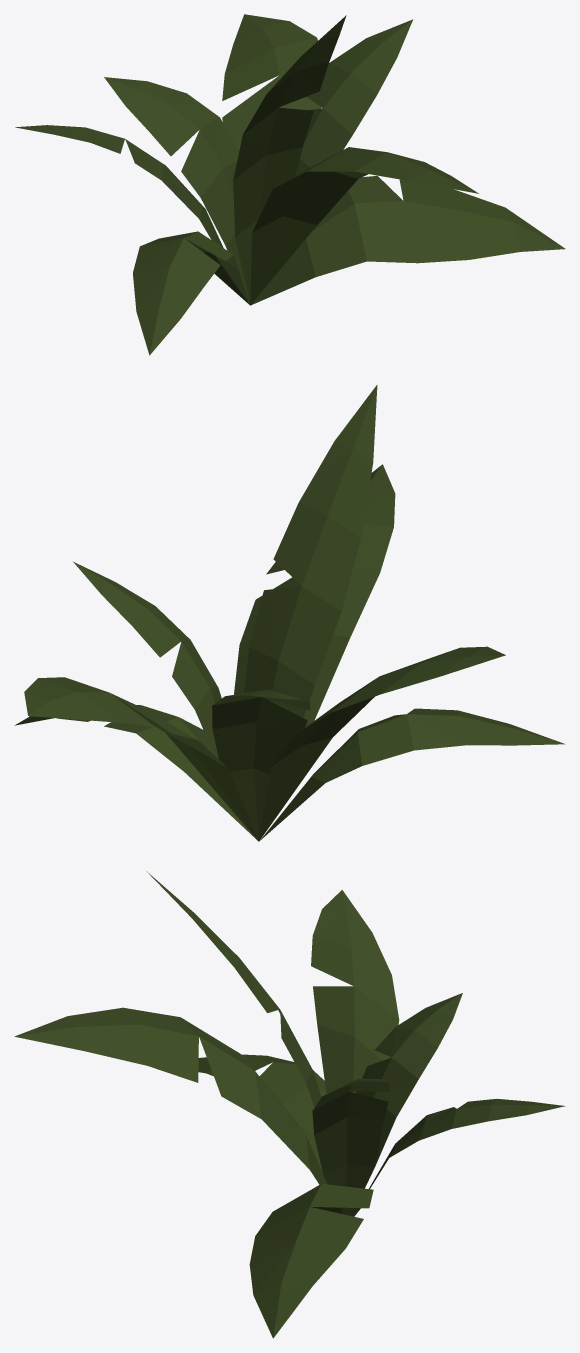
File: Plant_12.fbx
The picture shows the model from 3 angles, top to bottom: view 1: azimuth 30°, elevation 25°; view 2: azimuth 150°, elevation 25°; view 3: azimuth 270°, elevation 25°; orthographic projection. The views are drawn at different scales.
Visible parts, largest first — view 1: Plant_12; view 2: Plant_12; view 3: Plant_12.
Boxes of the visible parts, x1,y1,x2,y2 form: Plant_12: (15,14,565,355); Plant_12: (14,385,565,841); Plant_12: (14,871,565,1338).
Bounding box in the file's own units: 0.4207 × 0.2888 × 0.4103.
